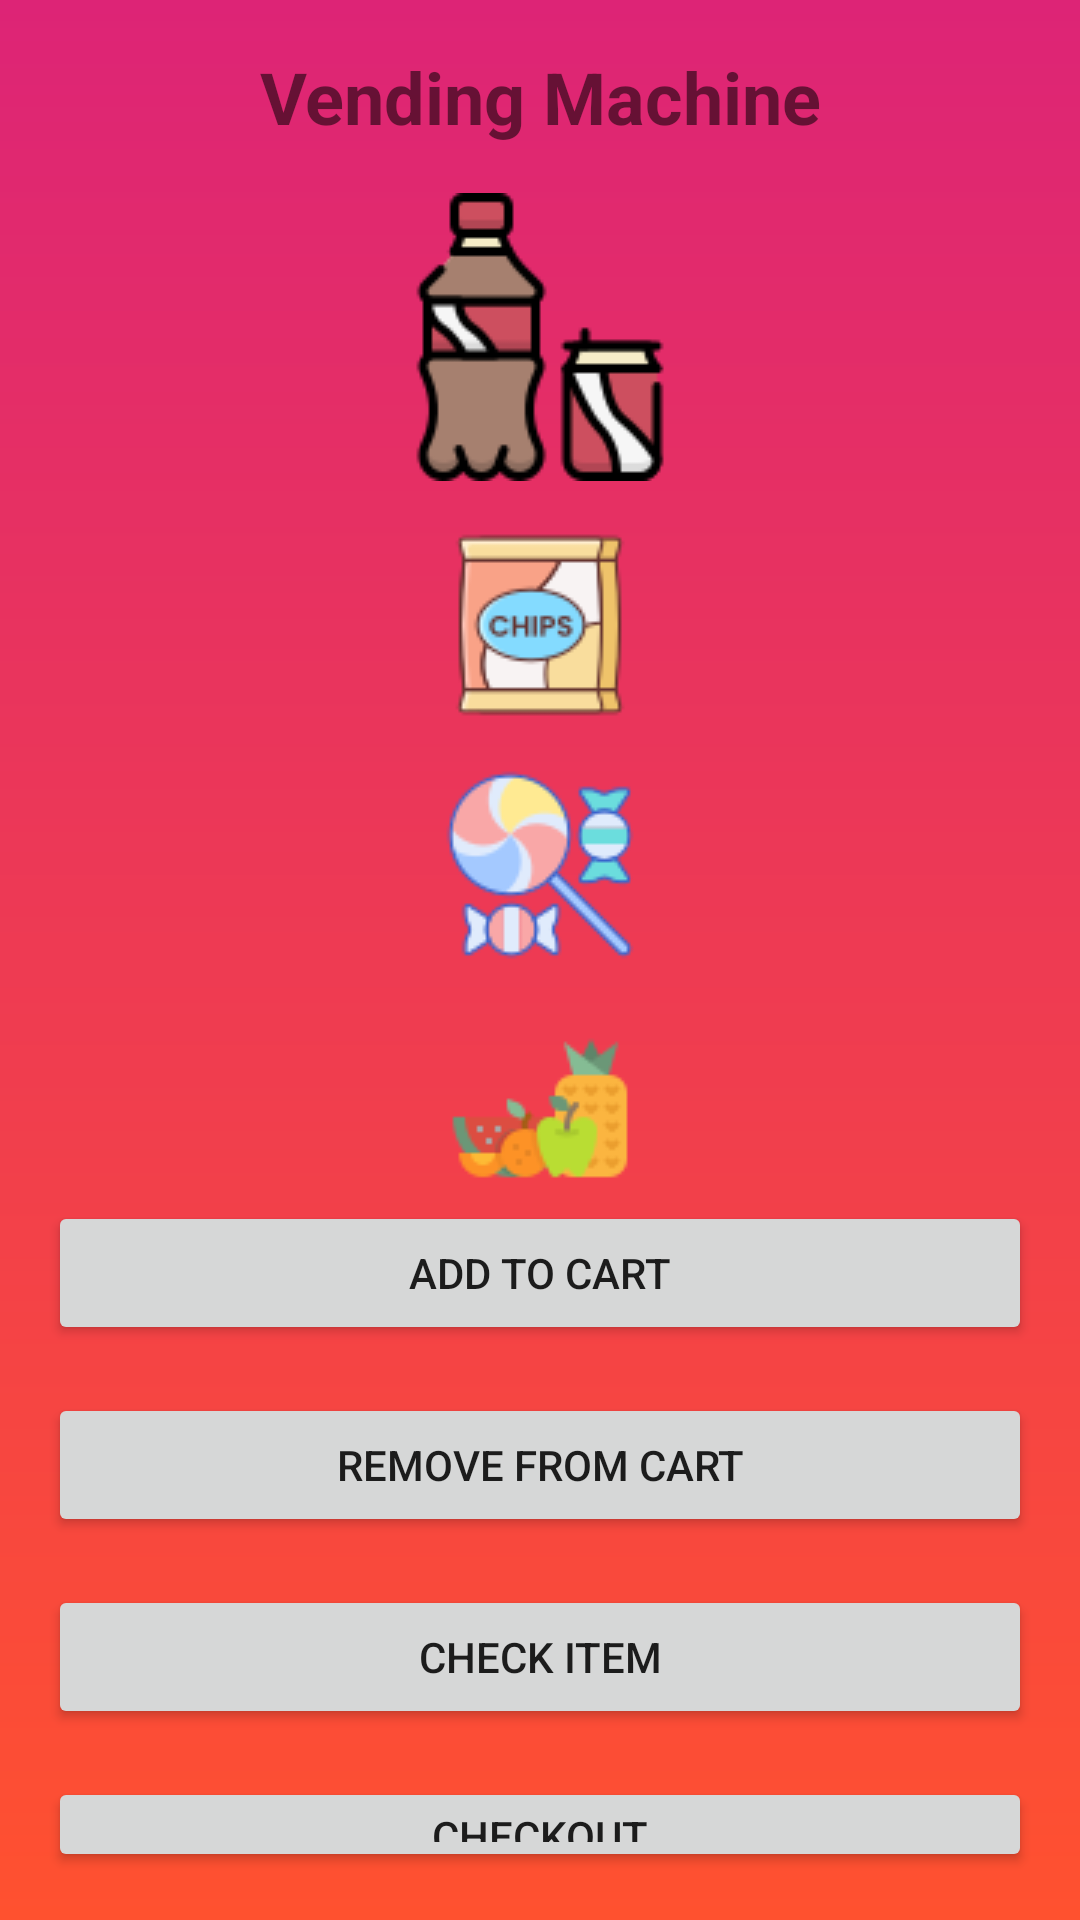

Locate icon controls on the screen. Image size 1080w x 1920h, boxes as box=[x1, y1, x2, y2].
Candy: box=[447, 772, 633, 958]
Coke: box=[416, 193, 664, 481]
Fruit: box=[452, 1040, 628, 1178]
